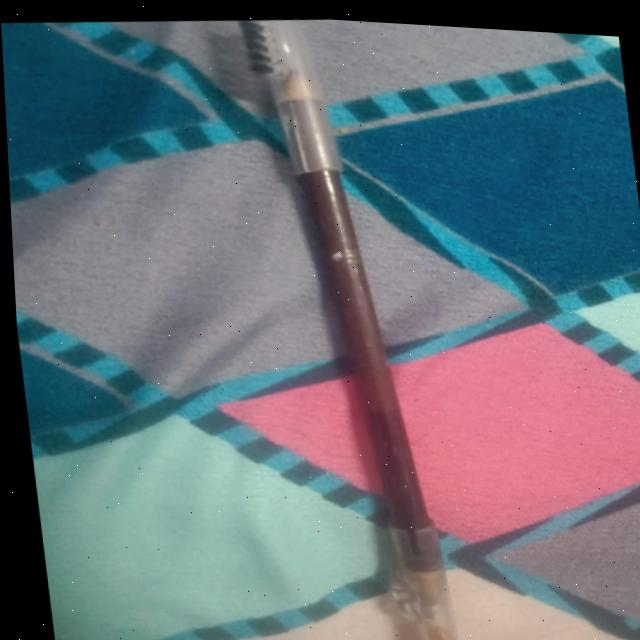lip liner: (195, 9, 511, 640)
